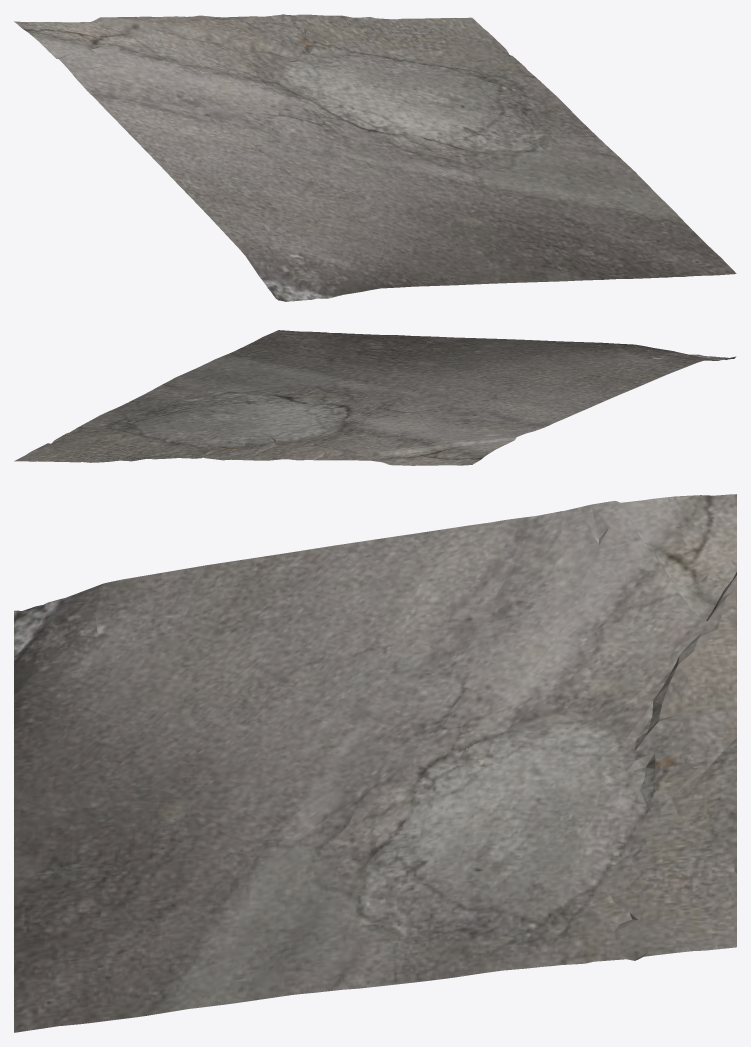
3 renders of one model, top to bottom at view 1: azimuth 30°, elevation 25°; view 2: azimuth 150°, elevation 25°; view 3: azimuth 270°, elevation 25°, orthographic. The views are drawn at different scales.
Bounding box in the file's own units: 3.35 × 1.19 × 3.35.
Materials: 3 (3 with a texture image).
